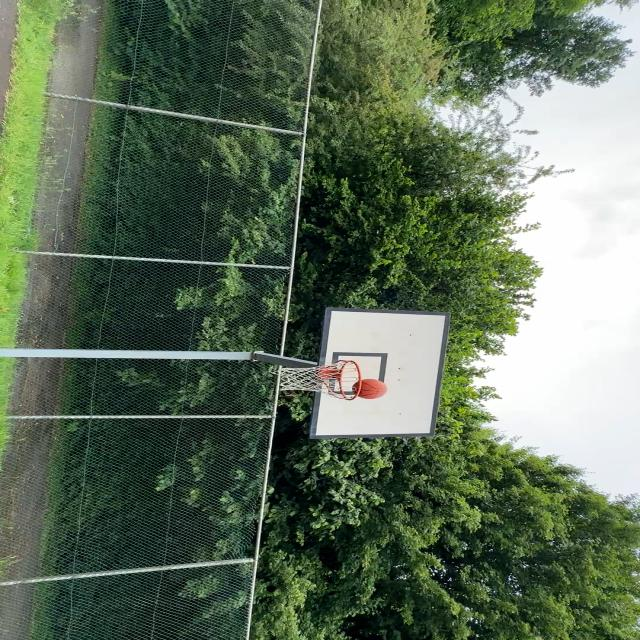rebound_hit: (351, 379, 388, 399)
